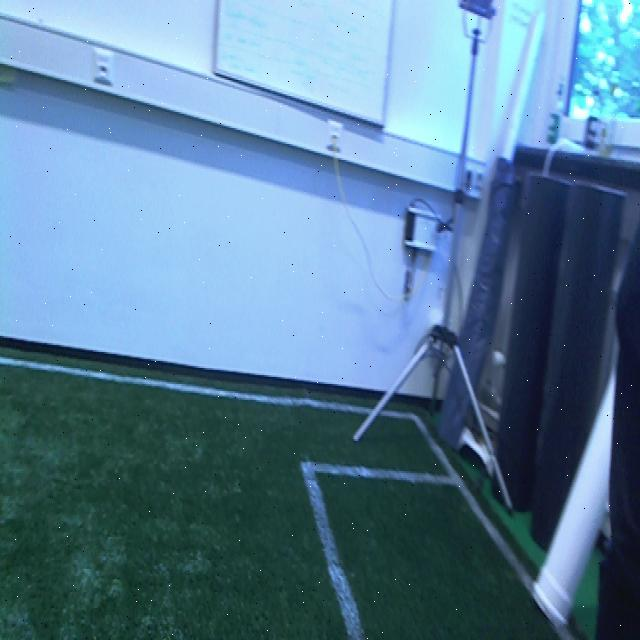goalpost: (530, 362, 616, 636)
